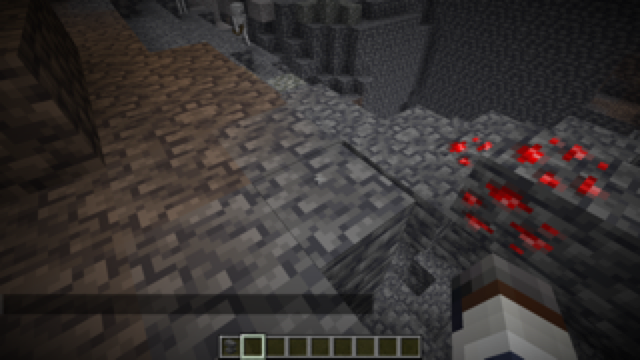redstone: (438, 126, 623, 270)
